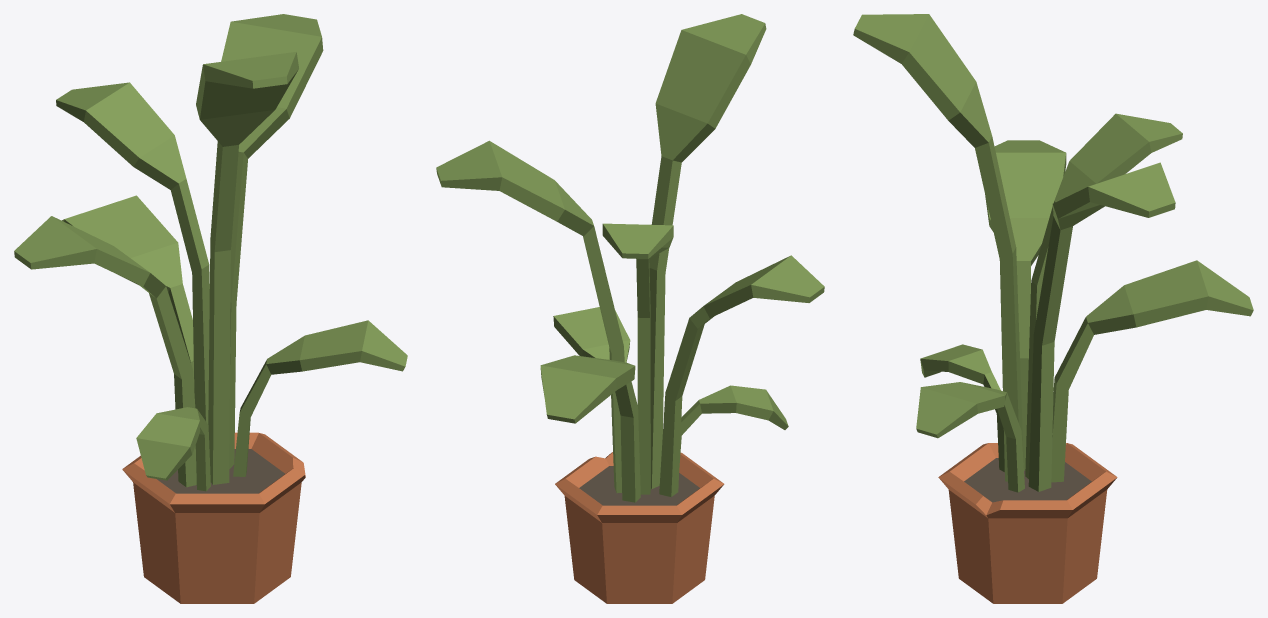
The model's file is SM_Prop_PotPlant_03.fbx.
3 renders of one model, left to right at view 1: azimuth 30°, elevation 25°; view 2: azimuth 150°, elevation 25°; view 3: azimuth 270°, elevation 25°, orthographic. The views are drawn at different scales.
Parts seen in each view (by area): view 1: SM_Prop_PotPlant_03; view 2: SM_Prop_PotPlant_03; view 3: SM_Prop_PotPlant_03.
Part boxes in pixels (x1,y1,x2,y2): SM_Prop_PotPlant_03: [14, 14, 407, 603]; SM_Prop_PotPlant_03: [436, 14, 824, 603]; SM_Prop_PotPlant_03: [853, 14, 1253, 603].
Bounding box in the file's own units: 46.01 × 69.81 × 46.97.
